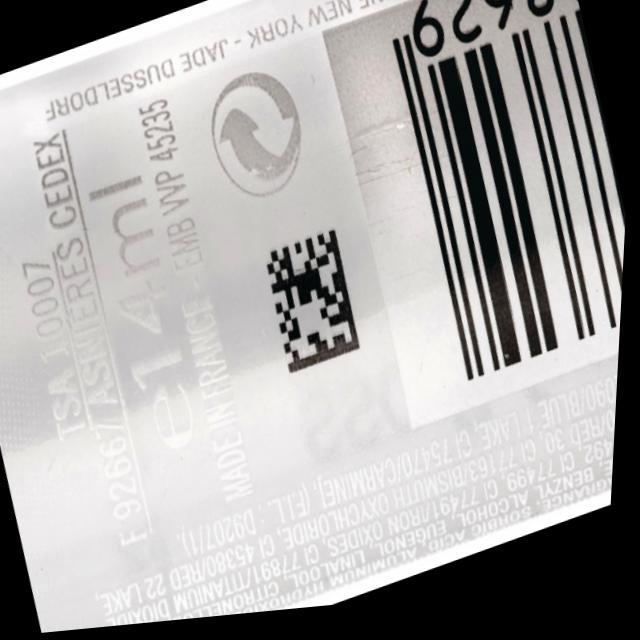datamatrix: (255, 227, 373, 388)
